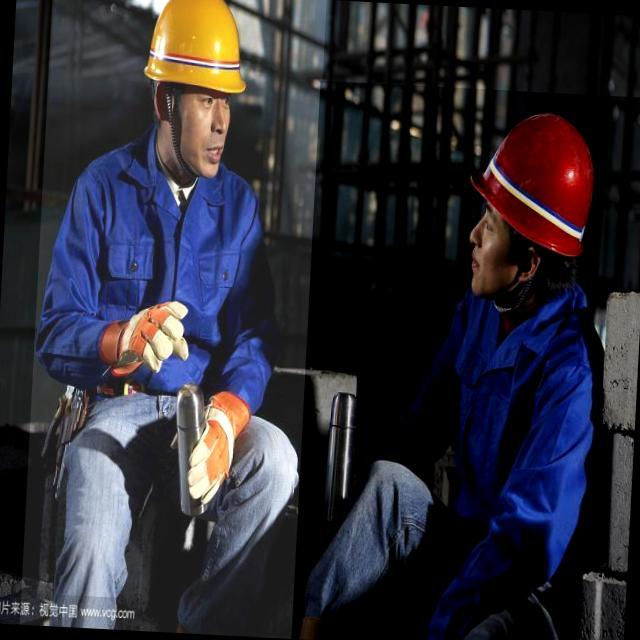Gloves: (181, 385, 258, 517), (114, 294, 192, 388)
Helmet: (461, 99, 608, 265), (132, 0, 265, 101)
Person: (23, 2, 304, 640), (323, 29, 615, 639)
Safety Vest: (374, 278, 602, 621), (40, 138, 284, 404)
